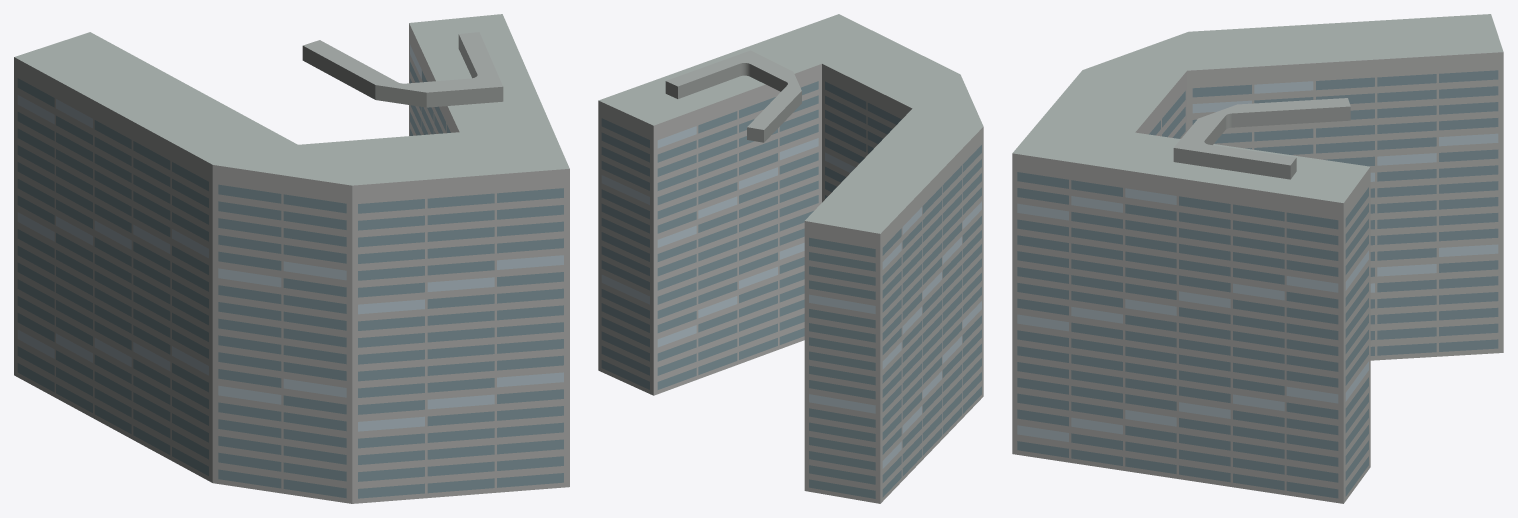
File: apt-a13381902.glb
3 views of the same model, side by side, from view 1: azimuth 30°, elevation 25°; view 2: azimuth 150°, elevation 25°; view 3: azimuth 270°, elevation 25° (orthographic). The views are drawn at different scales.
Parts seen in each view (by area): view 1: apt-a13381902; view 2: apt-a13381902; view 3: apt-a13381902.
Part boxes in pixels (box(x1,y1,x2,y2)): apt-a13381902: box(14, 14, 569, 503); apt-a13381902: box(598, 14, 983, 503); apt-a13381902: box(1012, 14, 1503, 503).
Bounding box in the file's own units: 67.01 × 52 × 73.53.
